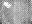person: (4, 1, 10, 10)
